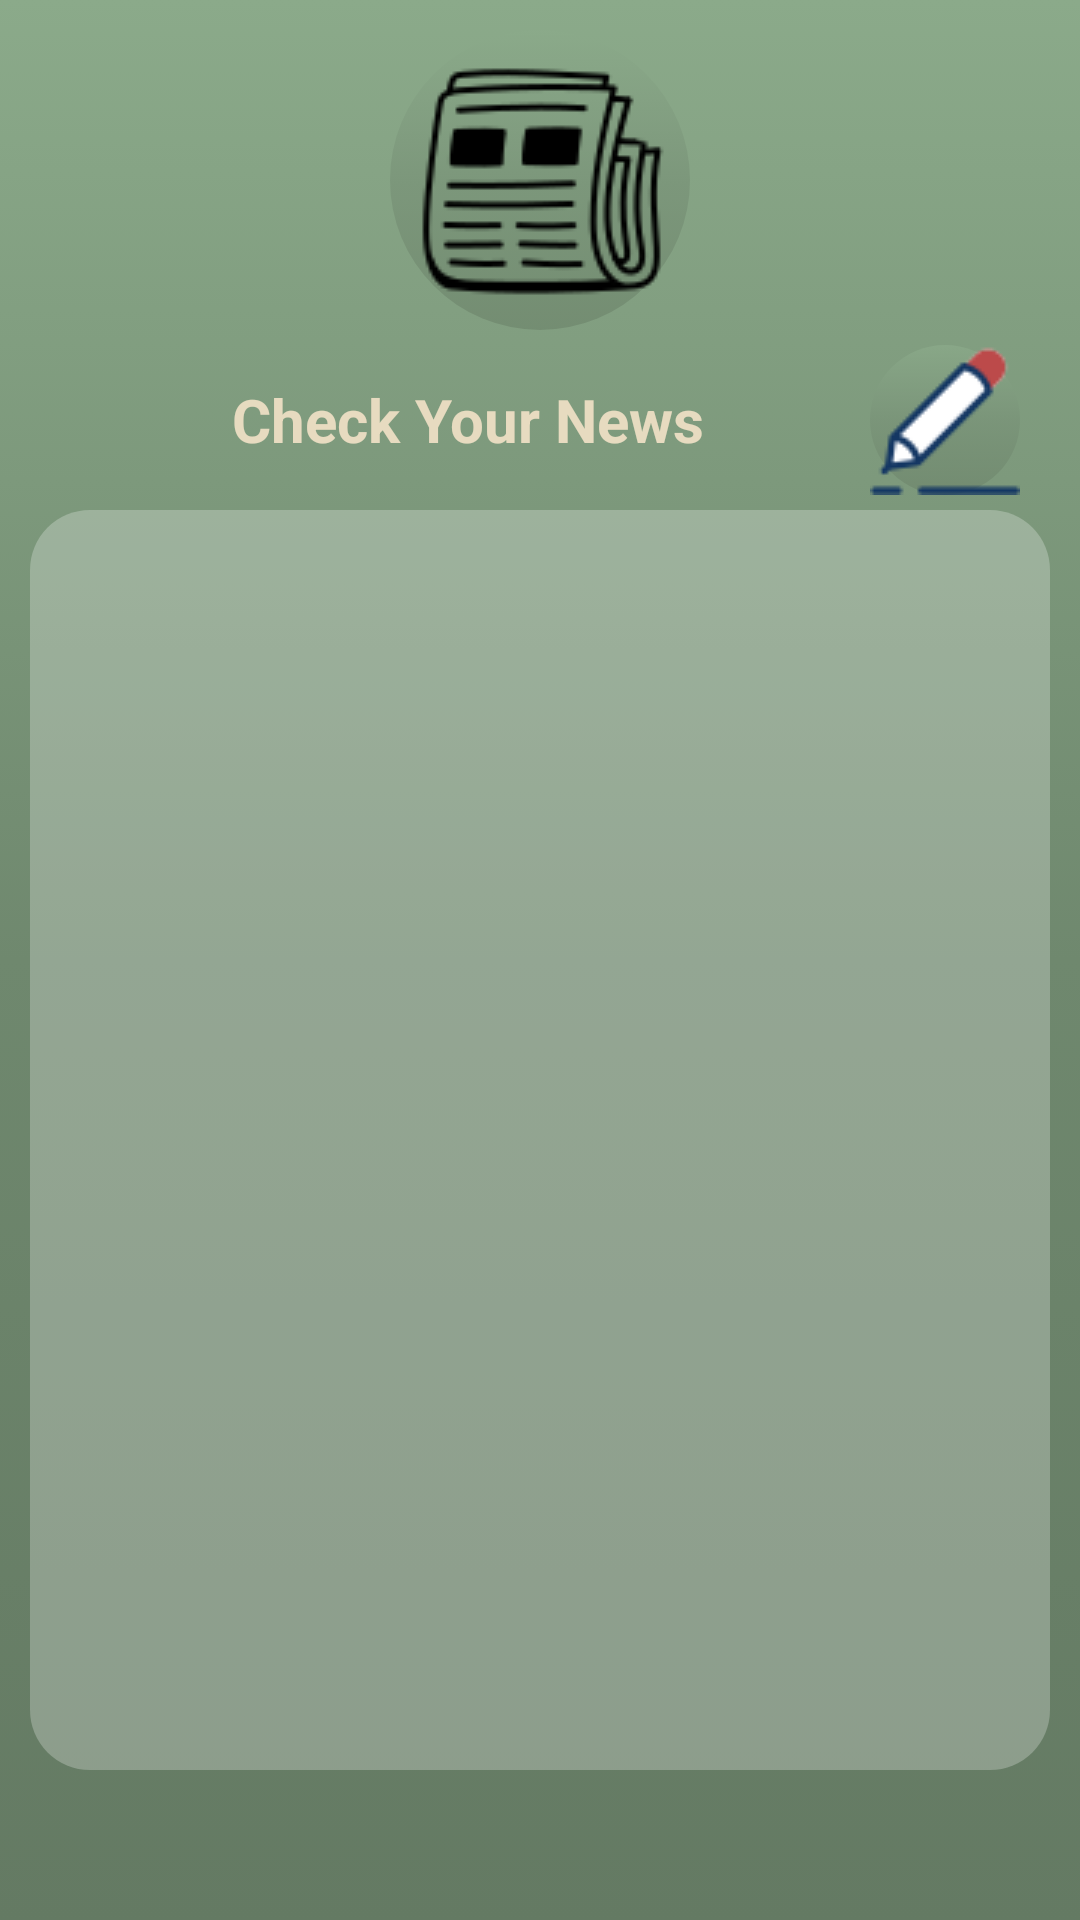

Icon bounding boxes for this 1080 x 1920 phone screenshot, format (x1, y1, x2, y2):
edit button: (870, 348, 1020, 495)
